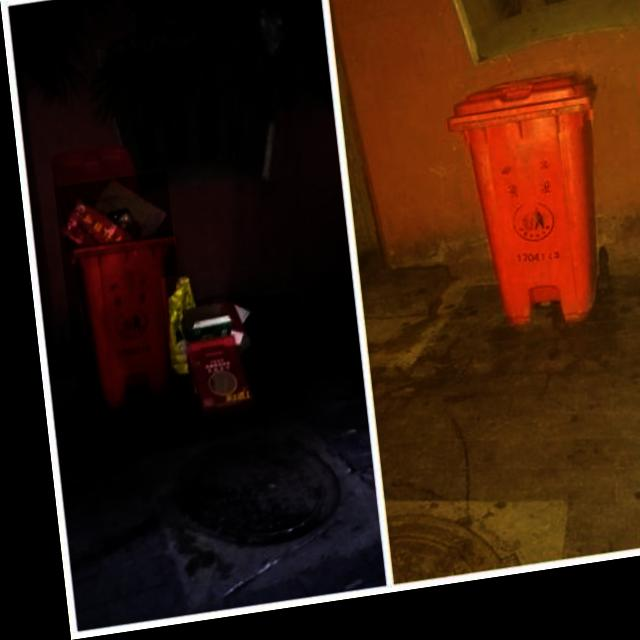garbage: (154, 272, 252, 423)
garbage_bin: (440, 86, 609, 350)
overflow: (50, 175, 182, 415)
